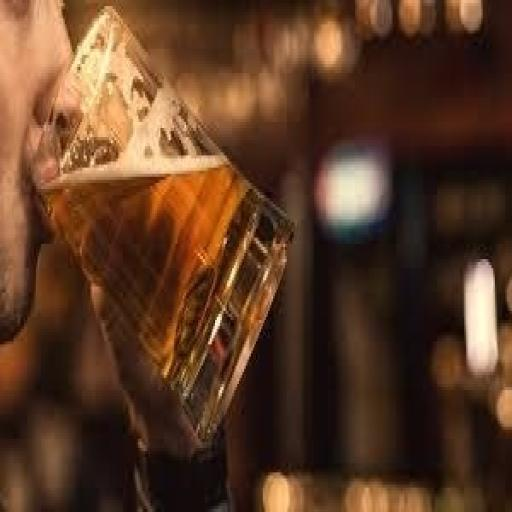drinking: (28, 3, 296, 457)
